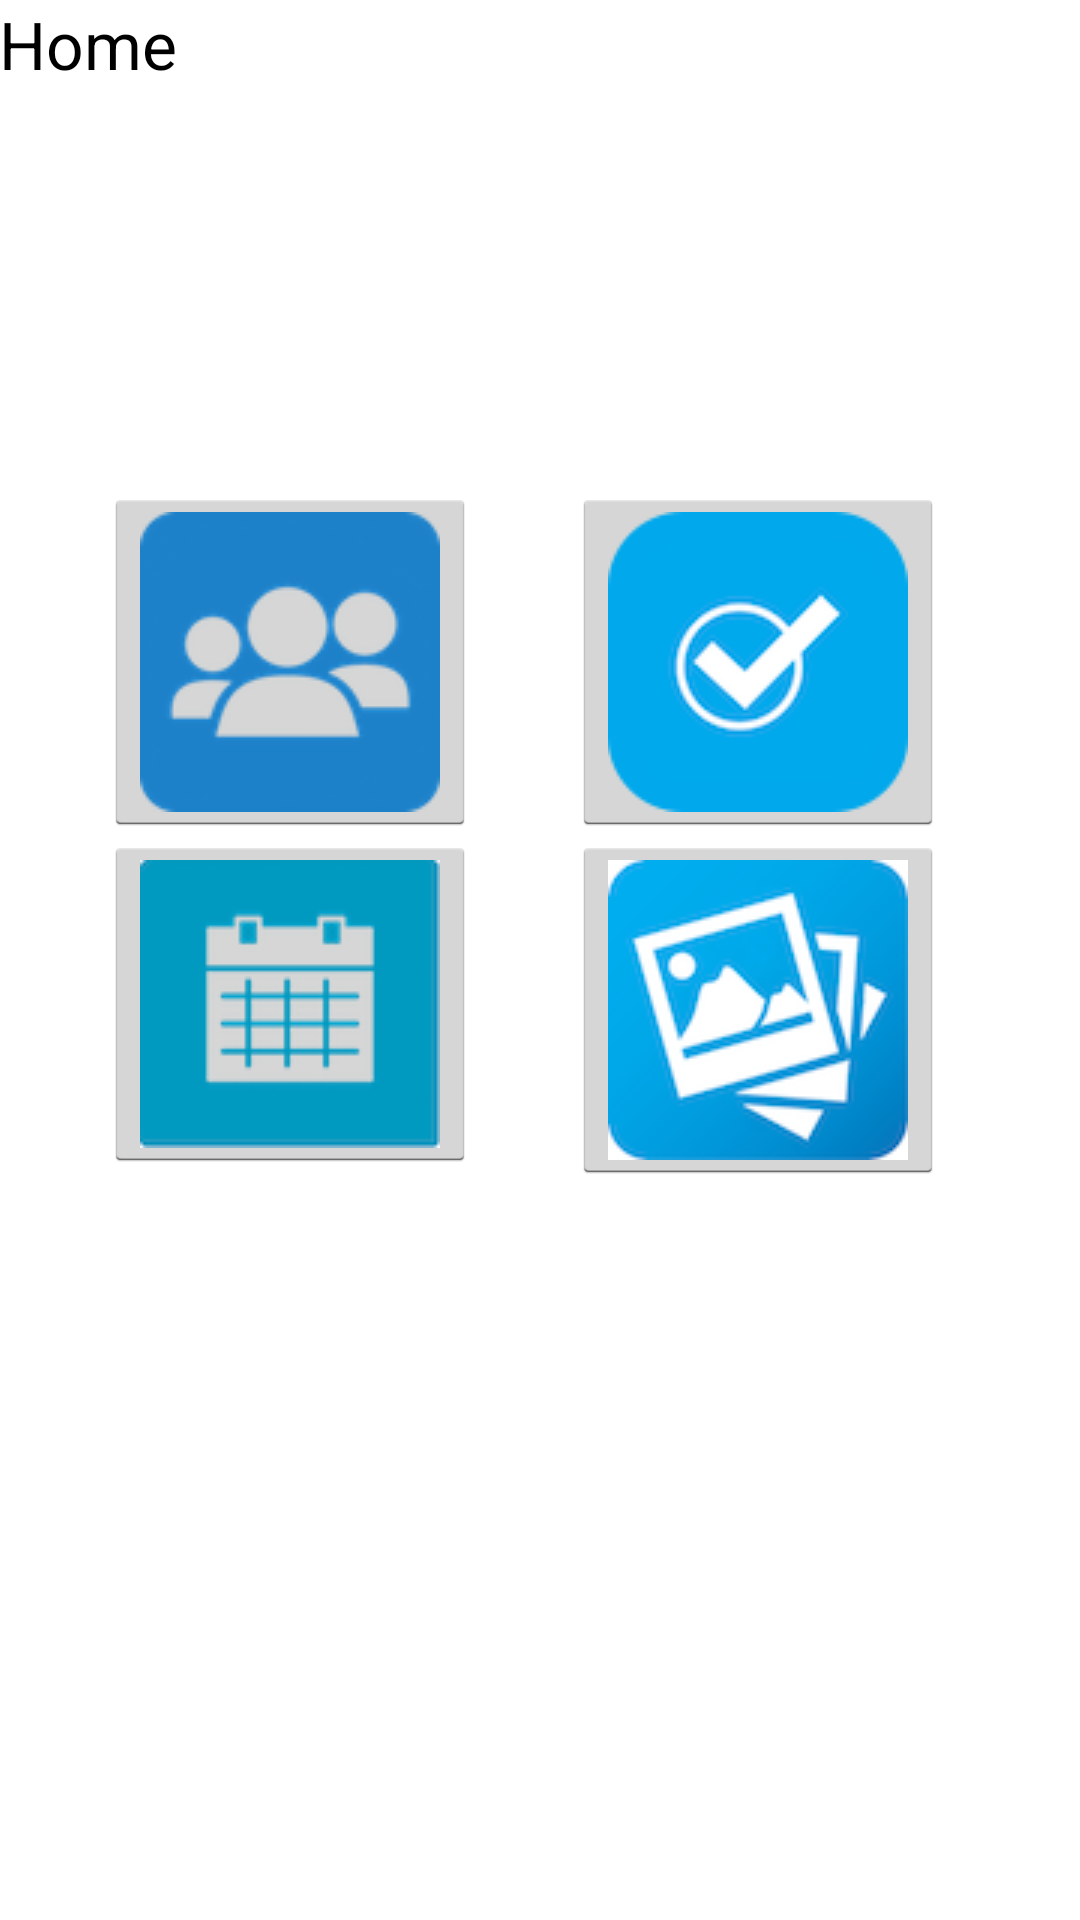

Screen size 1080px×1920px. Icon name, then its box in pixels as box(x1, y1, x2, y2):
event: box(116, 849, 464, 1161)
friend: box(116, 501, 464, 825)
imagegallery: box(584, 849, 932, 1173)
todo: box(584, 501, 932, 825)
